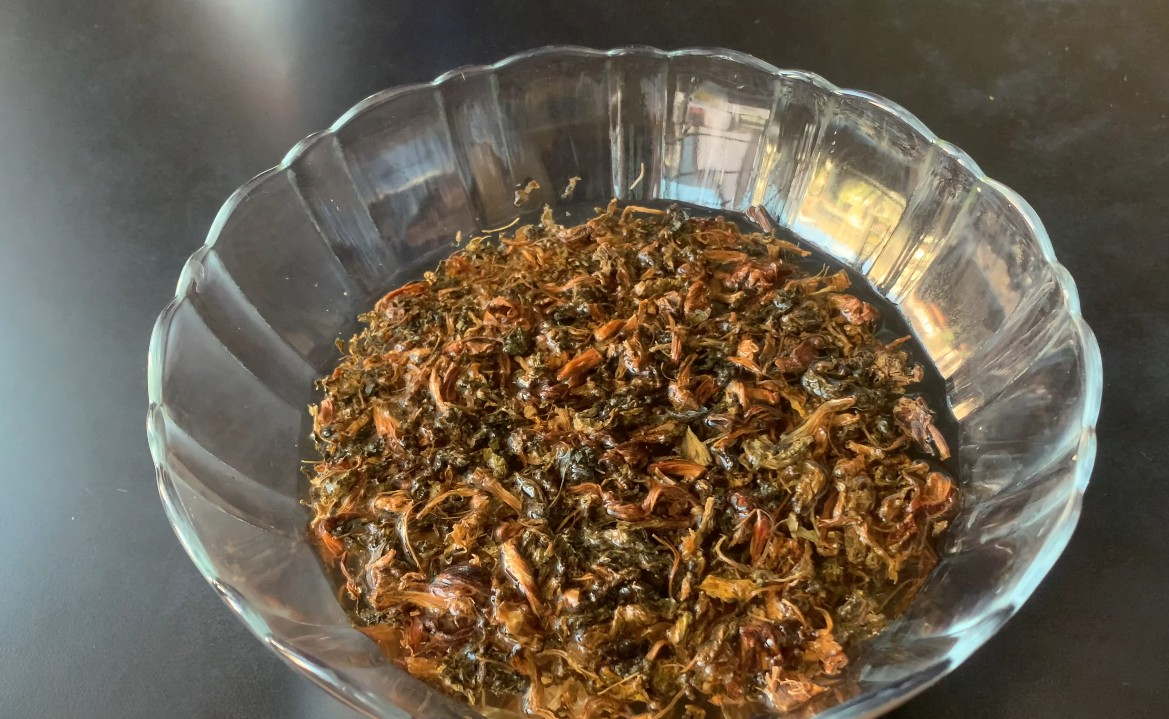gundruk: (337, 210, 938, 692)
